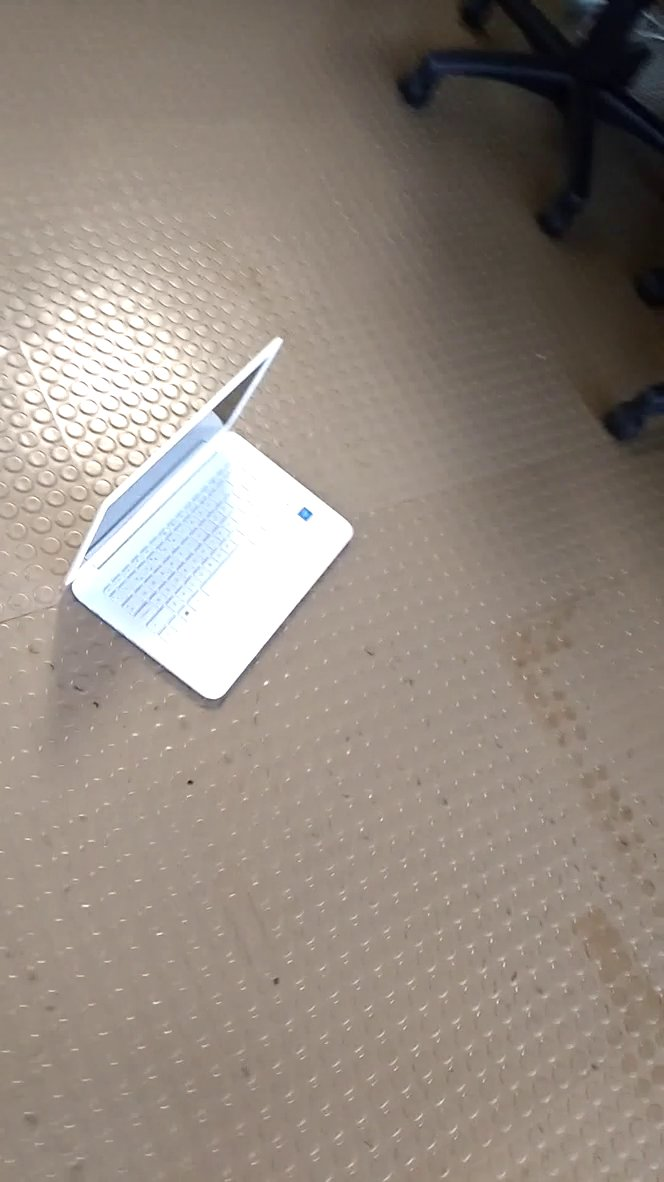laptop: (60, 323, 365, 714)
